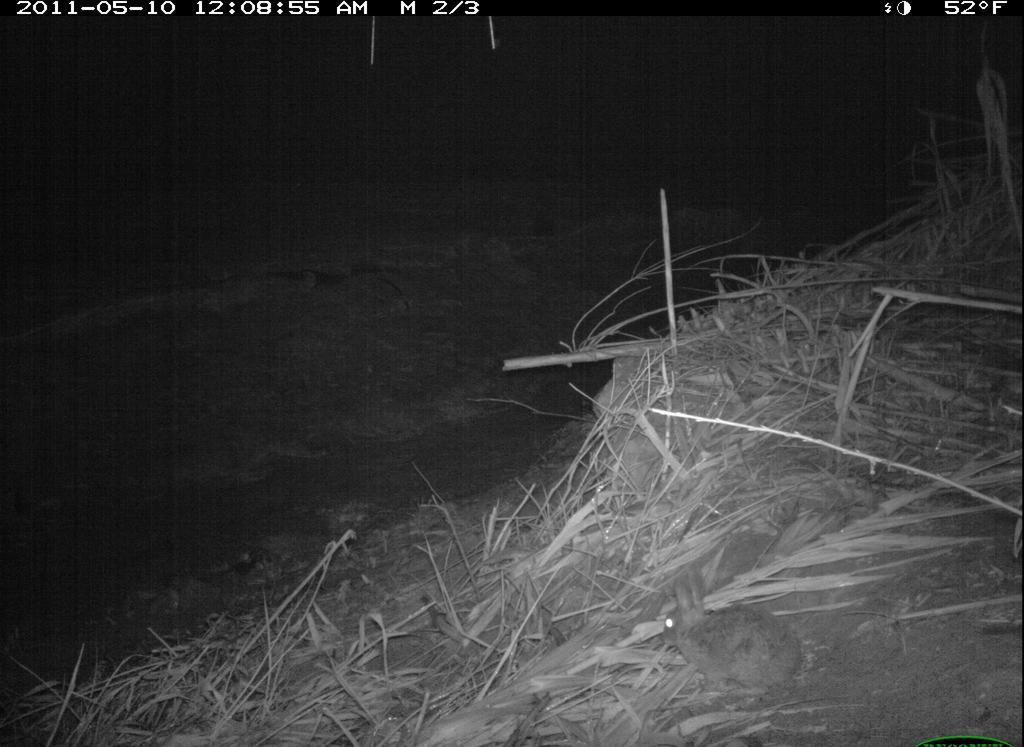rabbit: (658, 561, 813, 701)
